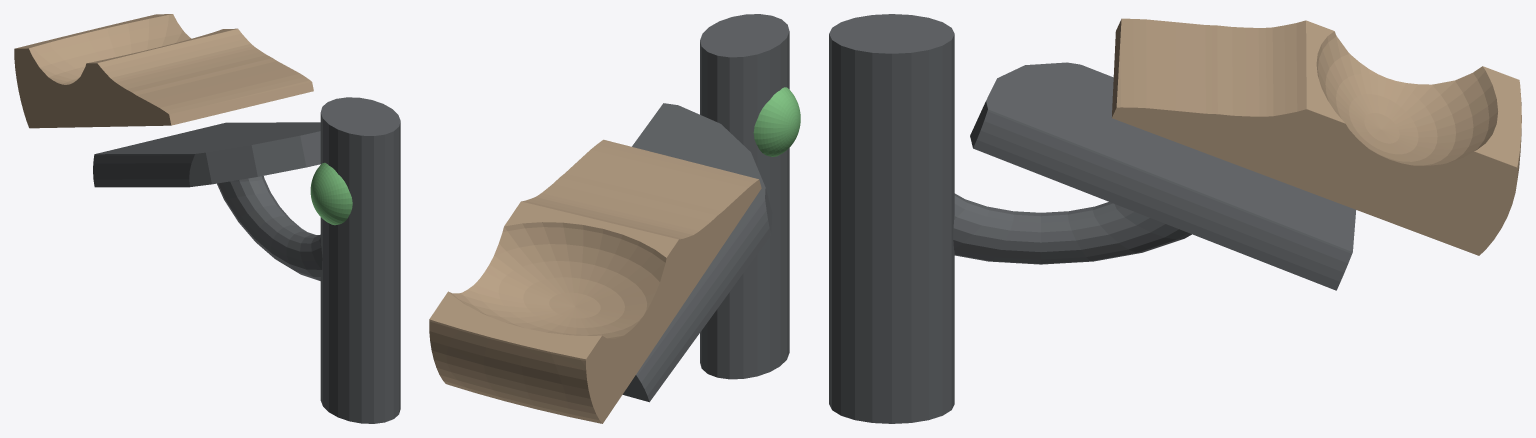
File: Accelerator.glb
3 views of the same model, side by side, from view 1: azimuth 30°, elevation 25°; view 2: azimuth 150°, elevation 25°; view 3: azimuth 270°, elevation 25° (orthographic). The views are drawn at different scales.
Visible parts, largest first — view 1: Mesh_Mesh_head_geo.001_lambert2SG.001; view 2: Mesh_Mesh_head_geo.001_lambert2SG.001; view 3: Mesh_Mesh_head_geo.001_lambert2SG.001.
Boxes of the visible parts, left/top/right/bottom form: Mesh_Mesh_head_geo.001_lambert2SG.001: left=14, top=14, right=400, bottom=423; Mesh_Mesh_head_geo.001_lambert2SG.001: left=429, top=14, right=800, bottom=423; Mesh_Mesh_head_geo.001_lambert2SG.001: left=829, top=14, right=1521, bottom=423.
Size of the model in its own units: 21.66 by 39 by 66.16.
